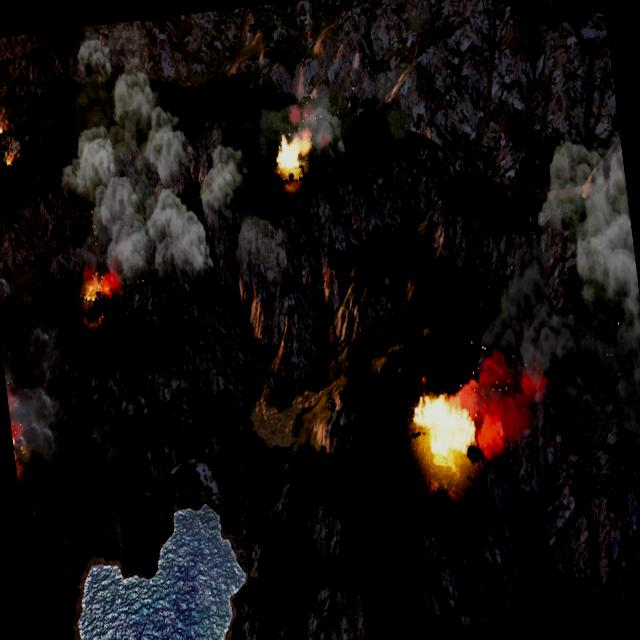fire: (409, 386, 479, 476), (274, 128, 316, 176), (80, 264, 122, 306), (4, 147, 18, 166), (0, 116, 6, 137)
smoke: (437, 130, 640, 552), (45, 41, 286, 292), (0, 255, 73, 471), (258, 80, 350, 174)
